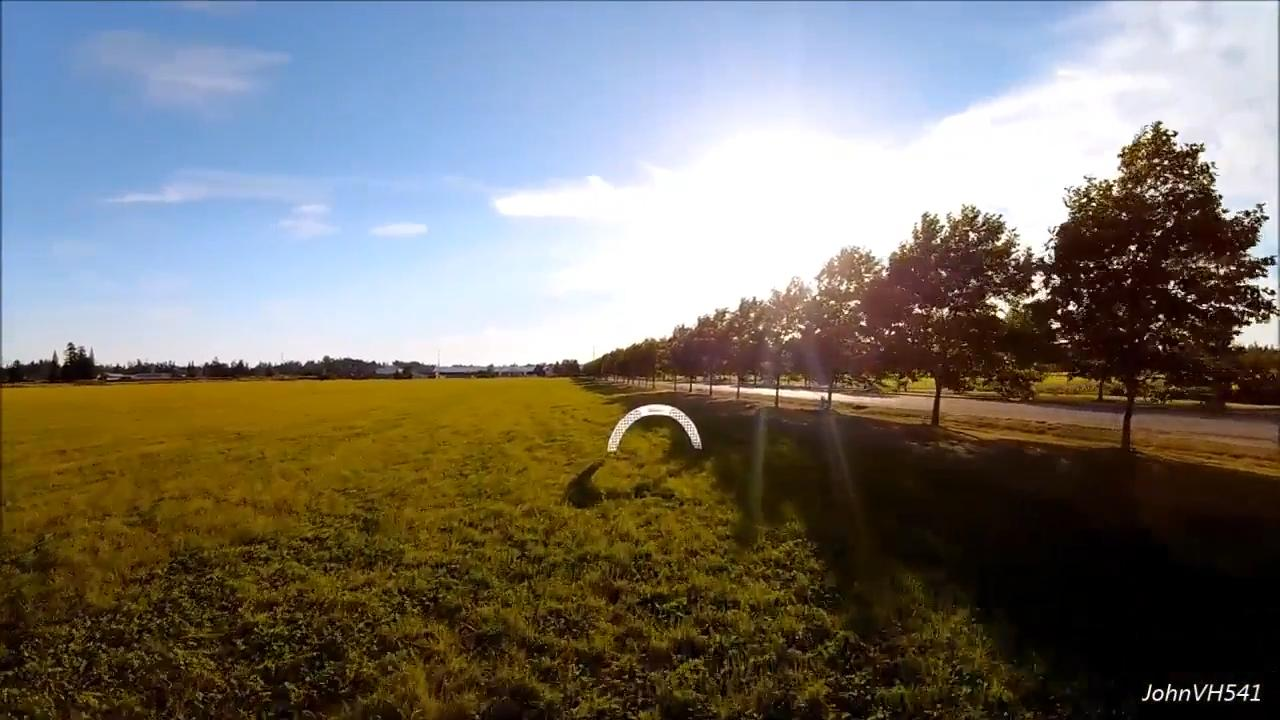gate: (604, 401, 706, 455)
